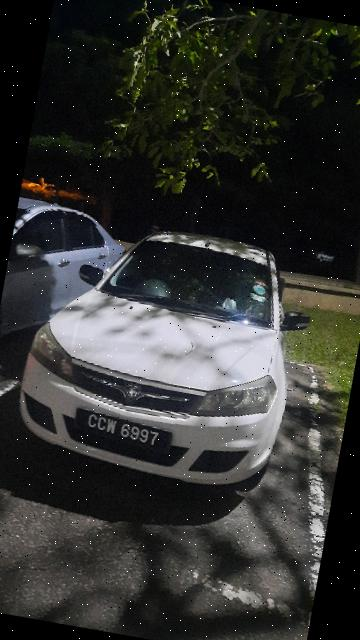License_Plate: (69, 406, 177, 458)
car: (9, 207, 325, 502), (1, 195, 136, 359)
